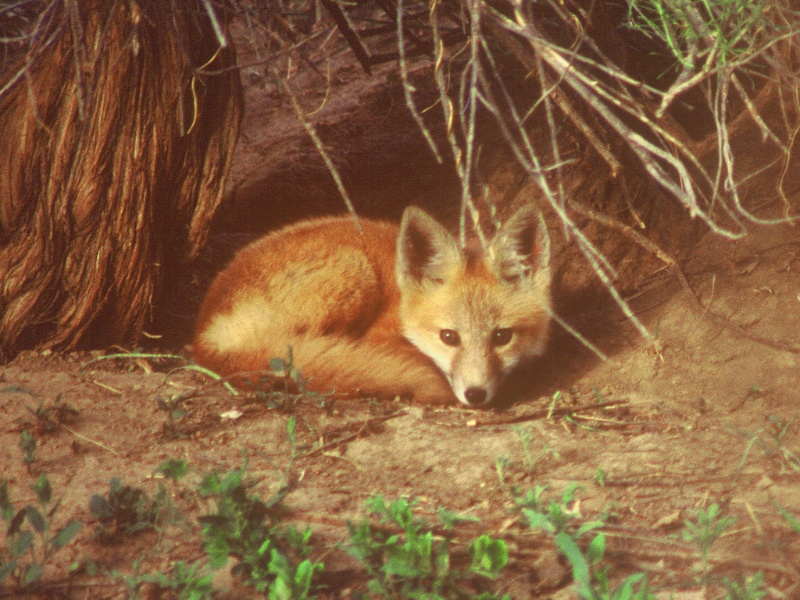fox: (186, 198, 560, 411)
